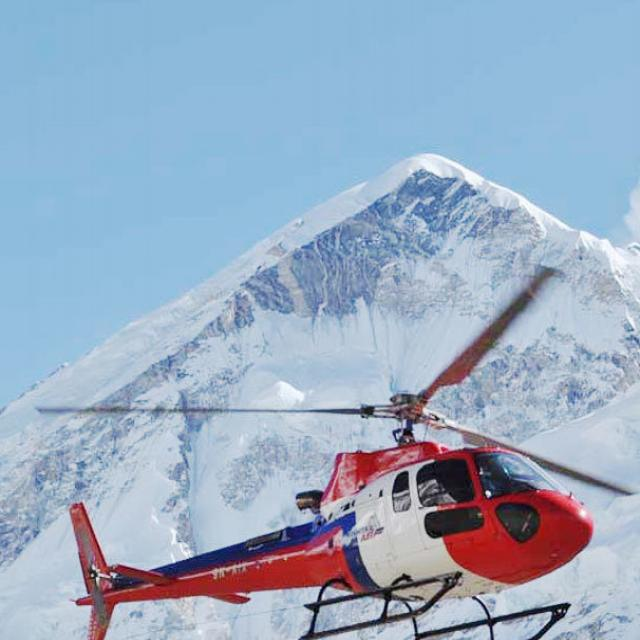helicopter: (43, 267, 636, 640)
